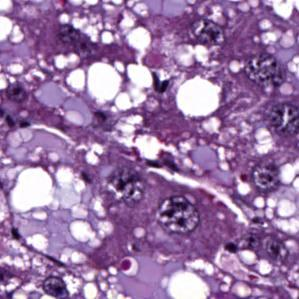ballooning: (9, 161, 116, 269)
